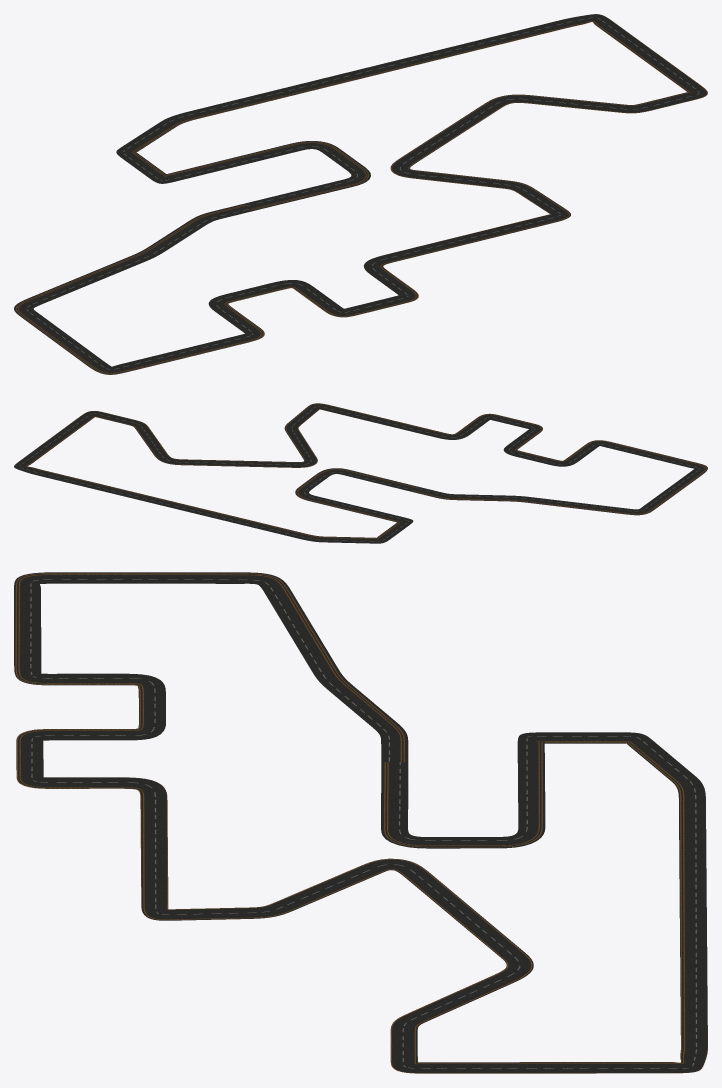
File: testRoad.obj
3 renders of one model, top to bottom at view 1: azimuth 30°, elevation 25°; view 2: azimuth 150°, elevation 25°; view 3: azimuth 270°, elevation 25°, orthographic. The views are drawn at different scales.
Parts seen in each view (by area): view 1: Road.001_Plane.003; view 2: Road.001_Plane.003; view 3: Road.001_Plane.003.
Part boxes in pixels (x1,y1,x2,y2): Road.001_Plane.003: [14, 14, 707, 374]; Road.001_Plane.003: [14, 403, 707, 543]; Road.001_Plane.003: [14, 572, 707, 1073].
Bounding box in the file's own units: 1925 × 0.000164 × 1126.
